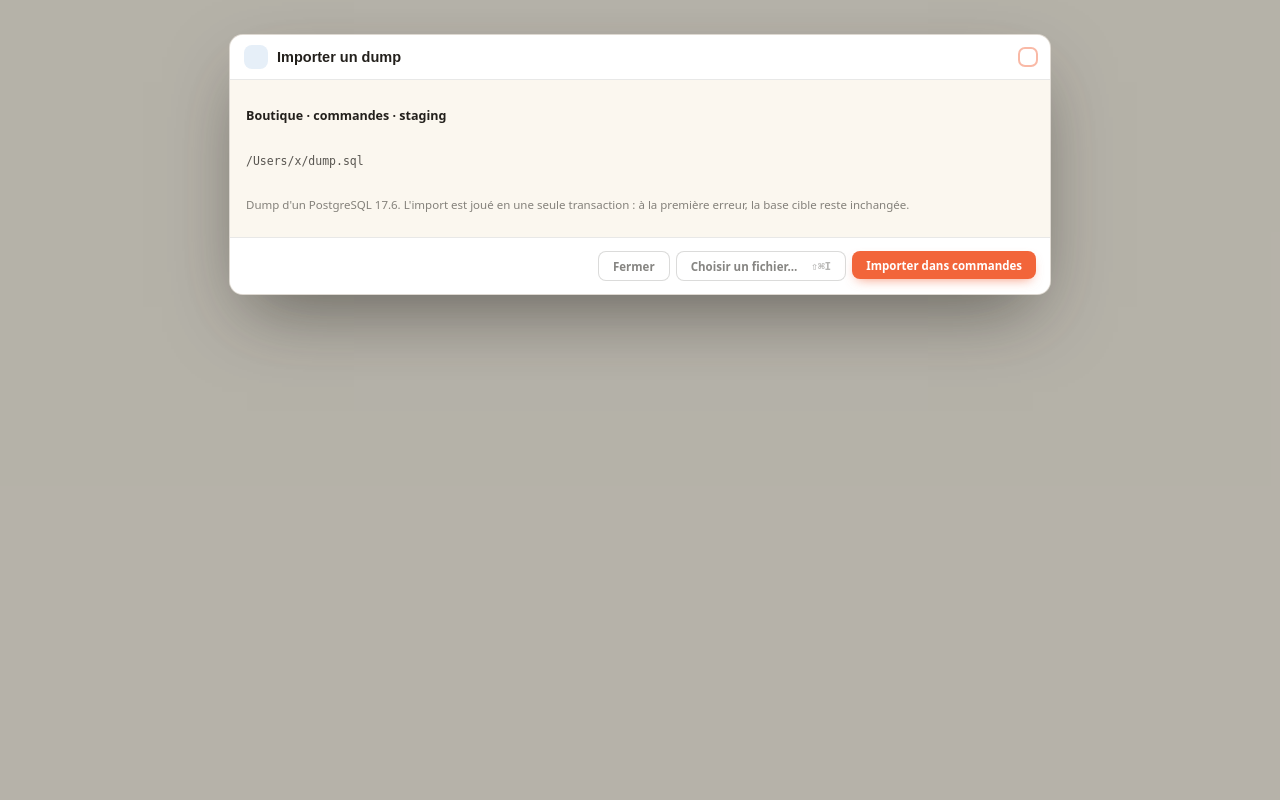
l’import réussi le dit
This screenshot has width=1280, height=800.
Step 1. Click the button "Importer dans commandes" → [944, 265], box [852,251,1036,279]
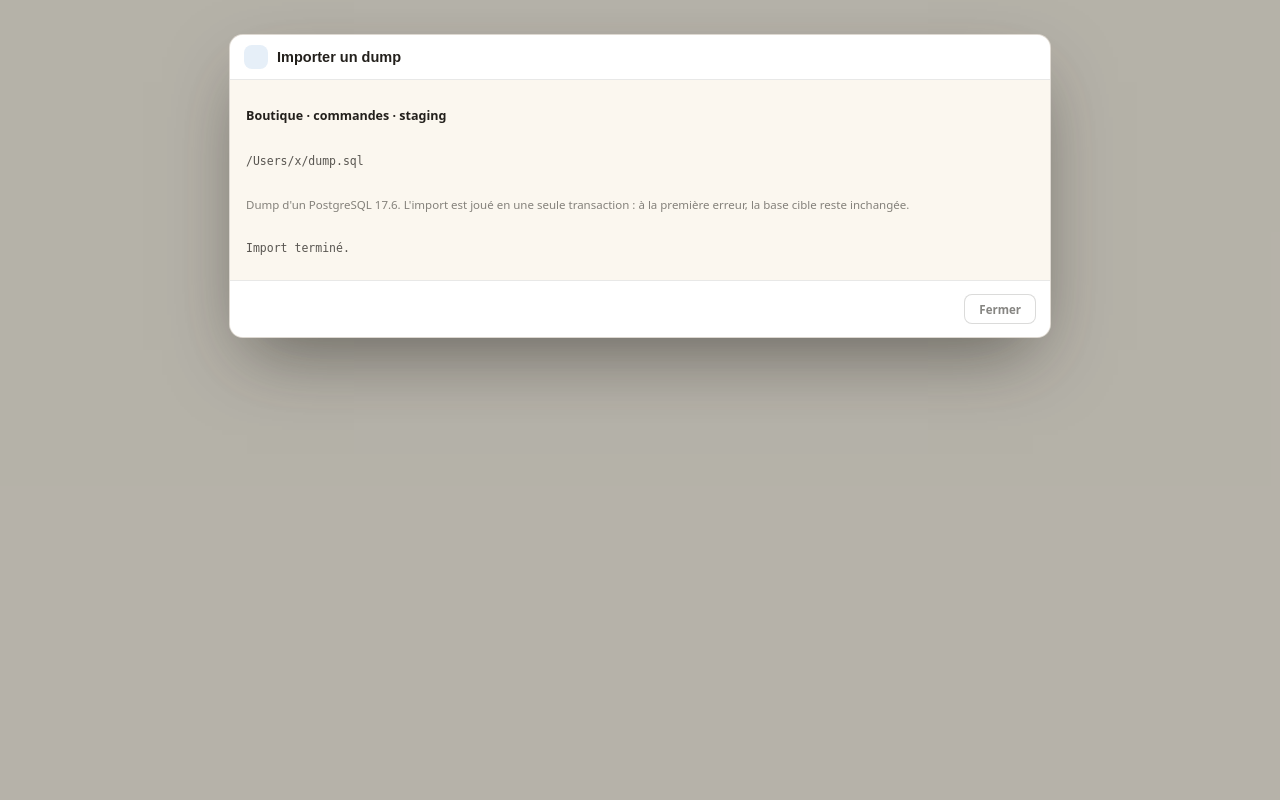
Check: the text "Import terminé." is shown, box [246,240,350,254]
